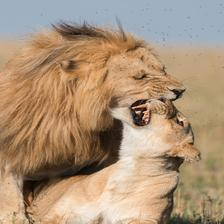Lion: (0, 14, 200, 223), (84, 96, 203, 221)
